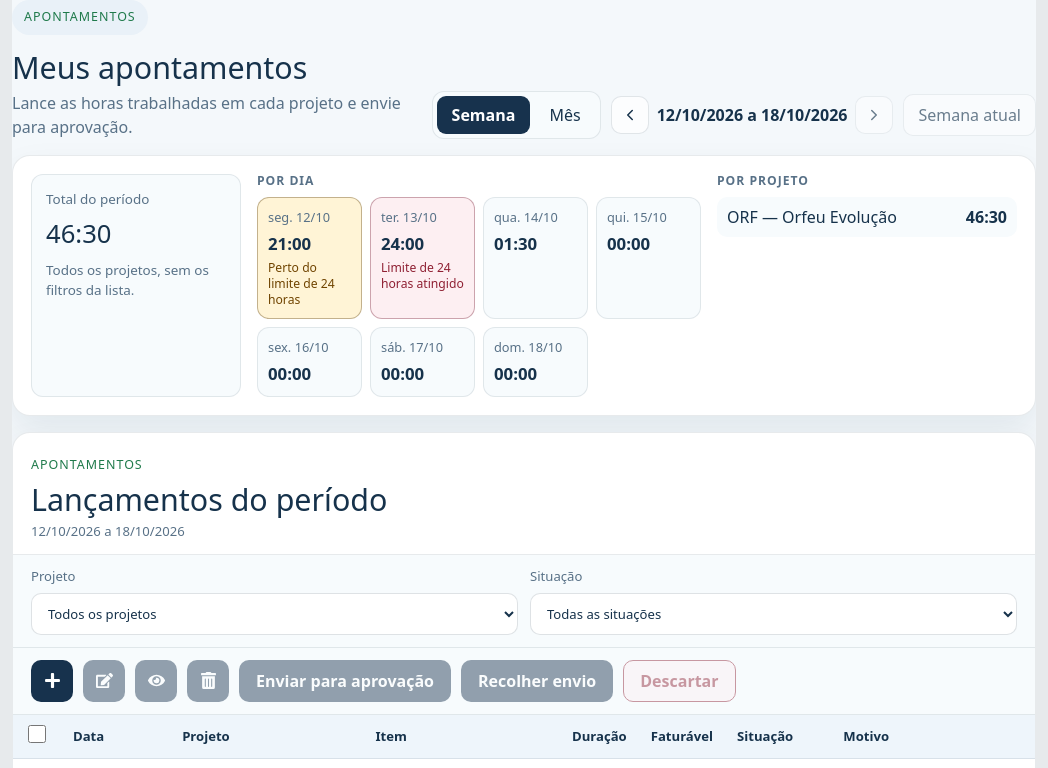
Scenario: Meus apontamentos › navega entre semanas e meses sem abrir períodos futuros
The width and height of the screenshot is (1048, 768).
Expected: the heading "Lançamentos do período" is shown, x1=31 y1=481 x2=387 y2=517
Expected: the button named "Próxima semana. Indisponível" is disabled, x1=856 y1=96 x2=894 y2=134
Click the button named "Semana anterior".
click(630, 115)  # box x1=611 y1=96 x2=649 y2=134
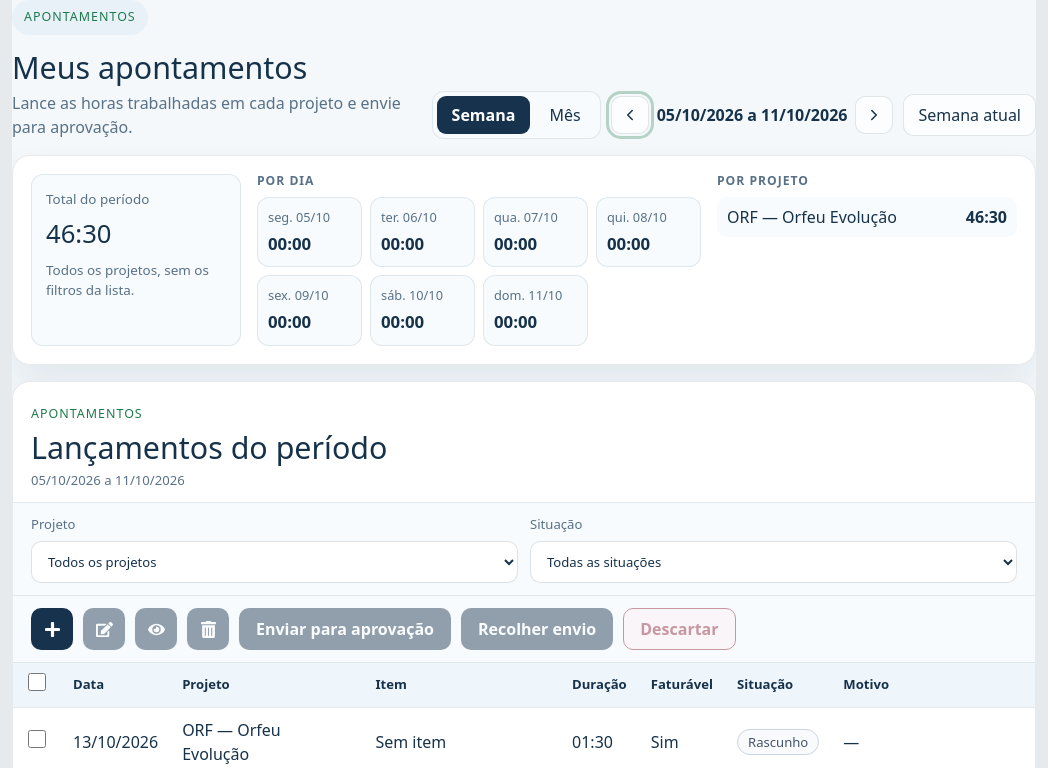
Click the button "Semana atual".
click(970, 115)  # box x1=904 y1=94 x2=1036 y2=136
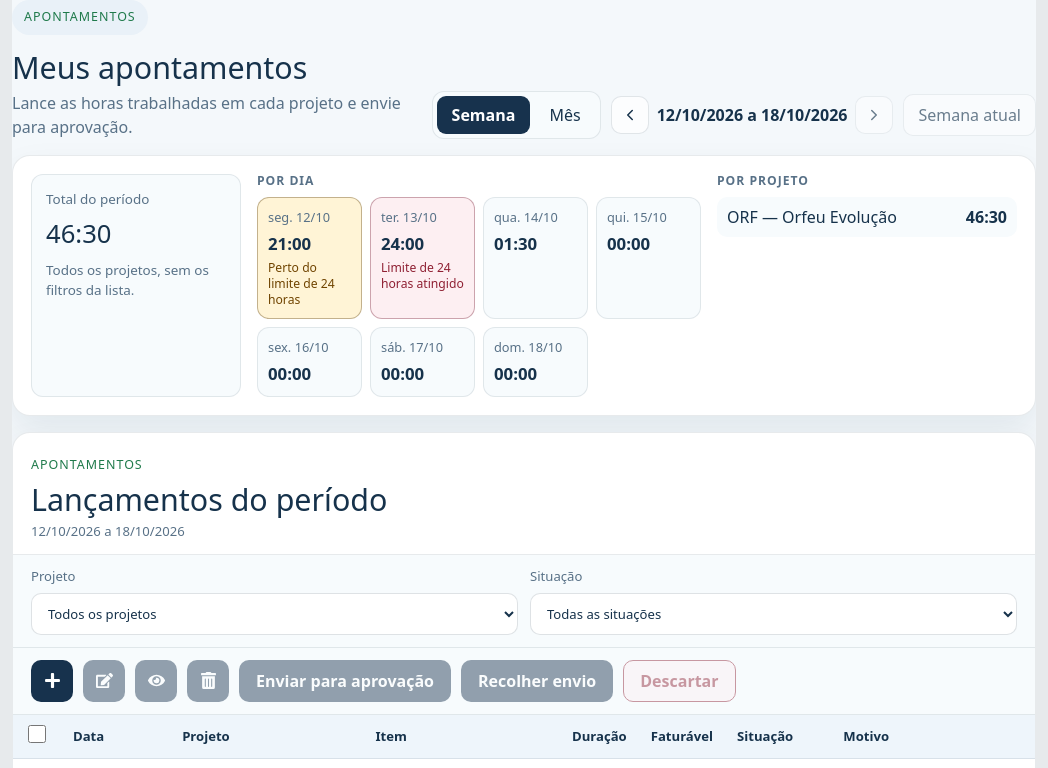
Click the button "Mês".
click(565, 115)  # box x1=534 y1=96 x2=596 y2=134
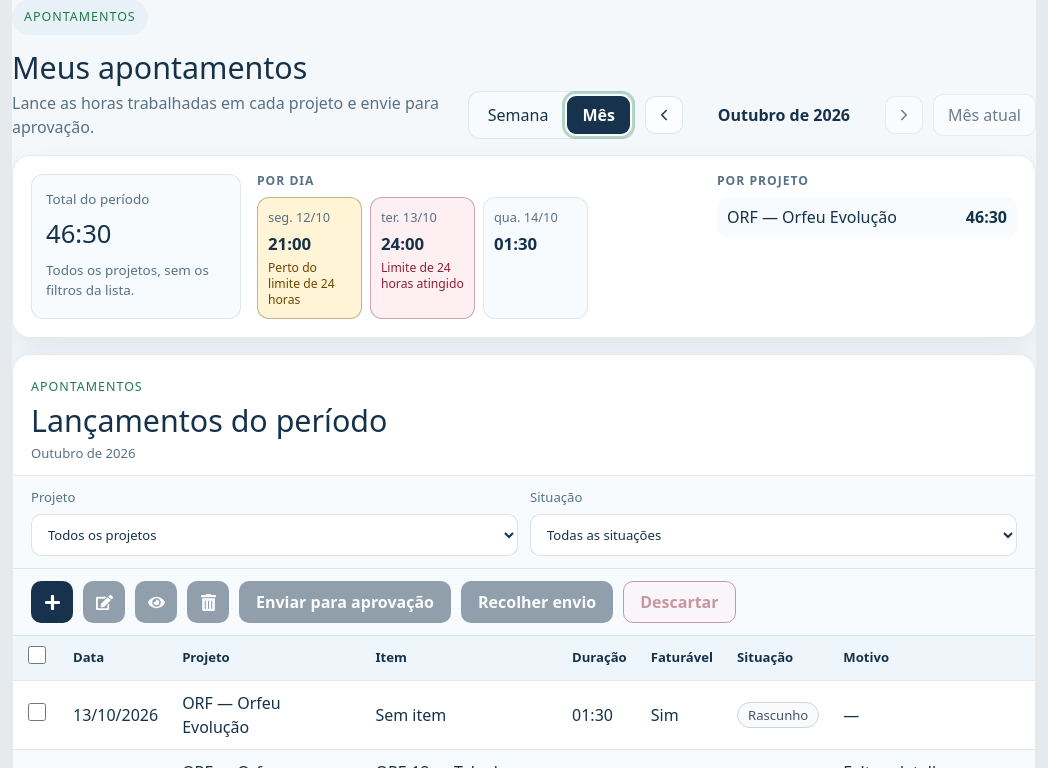
Expected: the button named "Próximo mês. Indisponível" is disabled, x1=885 y1=96 x2=923 y2=134
Click the button named "Mês anterior".
click(664, 115)  # box x1=645 y1=96 x2=683 y2=134
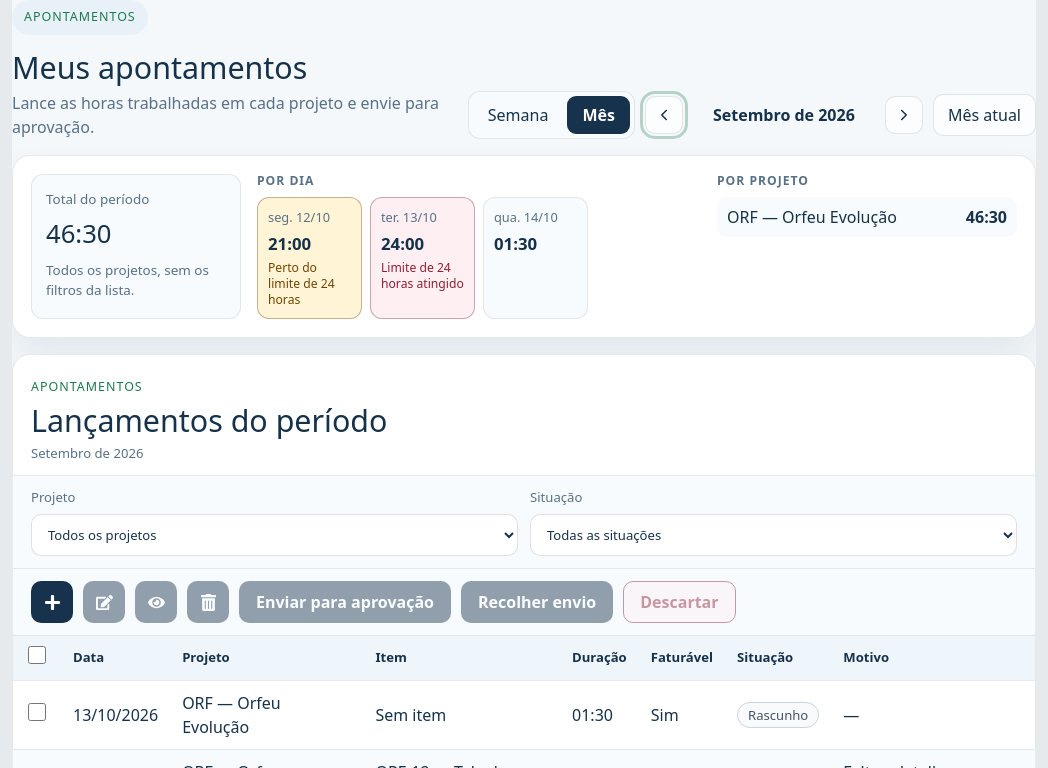
Expected: the element named "Período dos apontamentos" shows "Setembro de 2026", x1=713 y1=104 x2=855 y2=126
